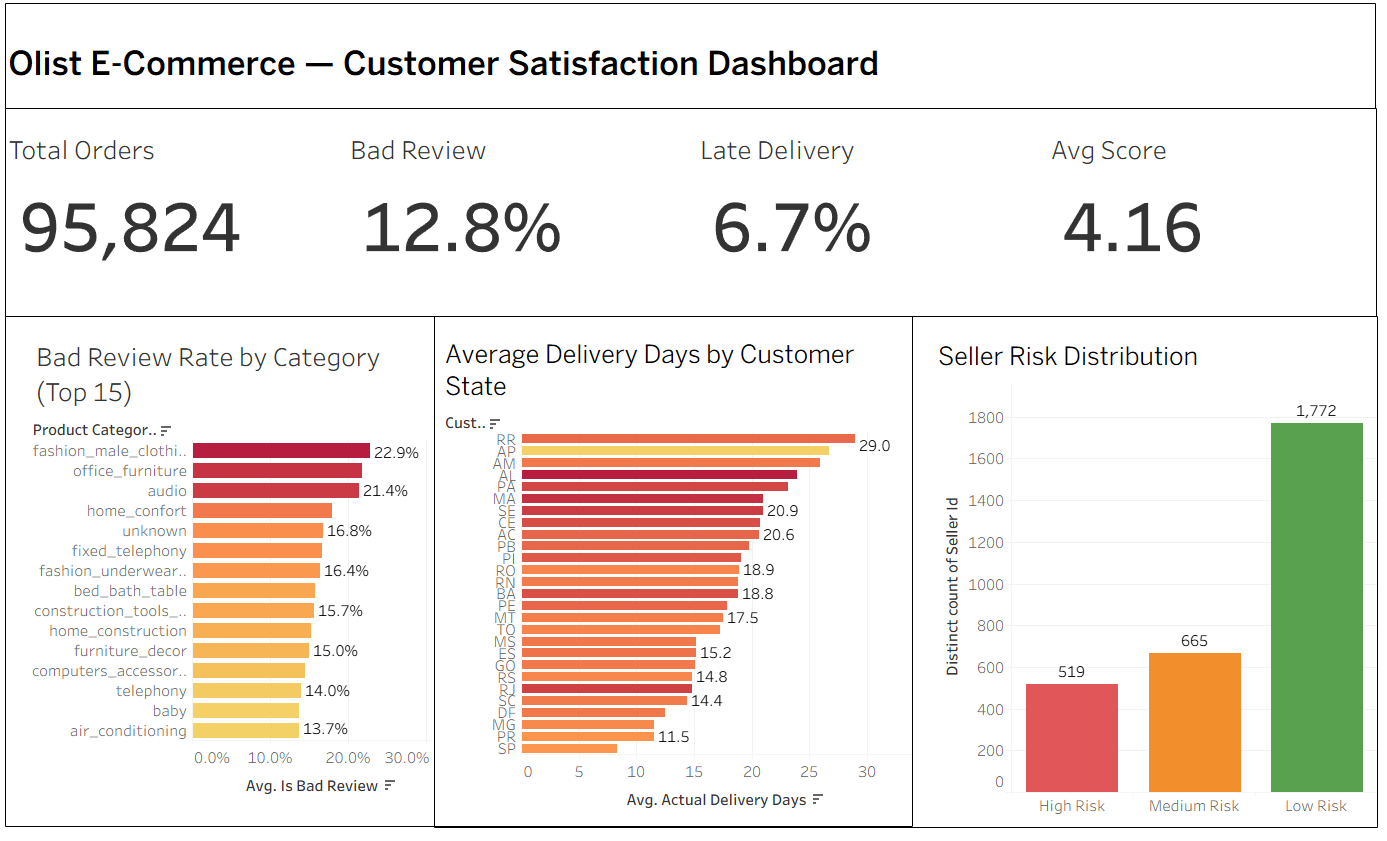

The dashboard page shown, as its layout file describes it:
{"tool":"tableau","page":{"name":"Dashboard 1","canvas":[1000,1000],"units":"permille","ordinal":0},"visuals":[{"type":"blank","box":[8.6,8.2,979.3,124.4]},{"type":"text","box":[5.7,9.4,988.6,141.4]},{"type":"blank","box":[8.6,131.5,980,245.3]},{"type":"worksheet","title":"KPI  Overview","mark":"Text","box":[5.7,150.8,243.8,839.8]},{"type":"worksheet","title":"Bad Review Rate","mark":"Automatic","box":[249.5,150.8,249.5,839.8]},{"type":"worksheet","title":"Late Delivery Rate","mark":"Automatic","box":[499,150.8,251,839.8]},{"type":"worksheet","title":"Avg Review Score","mark":"Automatic","box":[750,150.8,244.3,839.8]},{"type":"blank","box":[8.6,375.6,648.6,599.8]},{"type":"blank","box":[315,375.6,674.3,600.9]},{"type":"worksheet","title":" Delivery by State","mark":"Automatic","rows":["customer_state"],"cols":["actual_delivery_days"],"box":[320,396.7,336.4,566.9]},{"type":"worksheet","title":"Bad Review Rate by Category (Top 15)","mark":"Automatic","rows":["product_category_name_english"],"cols":["is_bad_review"],"box":[27.5,397.5,285.8,581.2]},{"type":"worksheet","title":"Seller Performance","mark":"Automatic","rows":["seller_id"],"cols":["seller_risk_category"],"box":[672.1,399.1,317.1,582.2]}]}

Visuals, with their boxes on the dashboard's canvas, which has no fixed pixel size, in thousandths of its width and height (x1, y1, x2, y2). These are canvas units, not pixel positions in the 1387x841 screenshot, which may show the page scaled, cropped or inside an application window:
blank: 9:8:988:133
text: 6:9:994:151
blank: 9:132:989:377
"KPI  Overview" worksheet (Text marks): 6:151:250:991
"Bad Review Rate" worksheet: 250:151:499:991
"Late Delivery Rate" worksheet: 499:151:750:991
"Avg Review Score" worksheet: 750:151:994:991
blank: 9:376:657:975
blank: 315:376:989:976
" Delivery by State" worksheet: 320:397:656:964
"Bad Review Rate by Category (Top 15)" worksheet: 28:398:313:979
"Seller Performance" worksheet: 672:399:989:981
